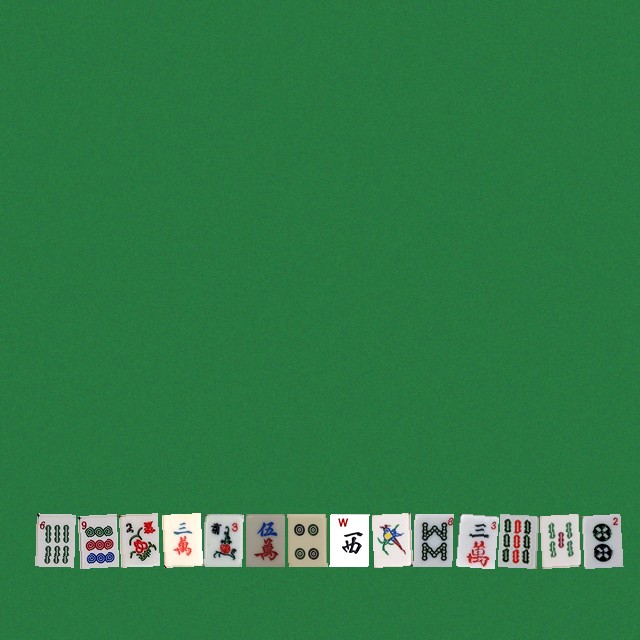tile: (35, 513, 74, 566), (77, 513, 116, 566), (119, 513, 158, 566), (161, 513, 200, 566), (203, 513, 242, 566), (245, 513, 284, 566), (287, 513, 326, 566), (329, 513, 368, 566), (371, 513, 410, 566), (413, 513, 452, 566), (455, 513, 494, 566), (497, 513, 536, 566), (539, 513, 578, 566), (581, 513, 620, 566)
